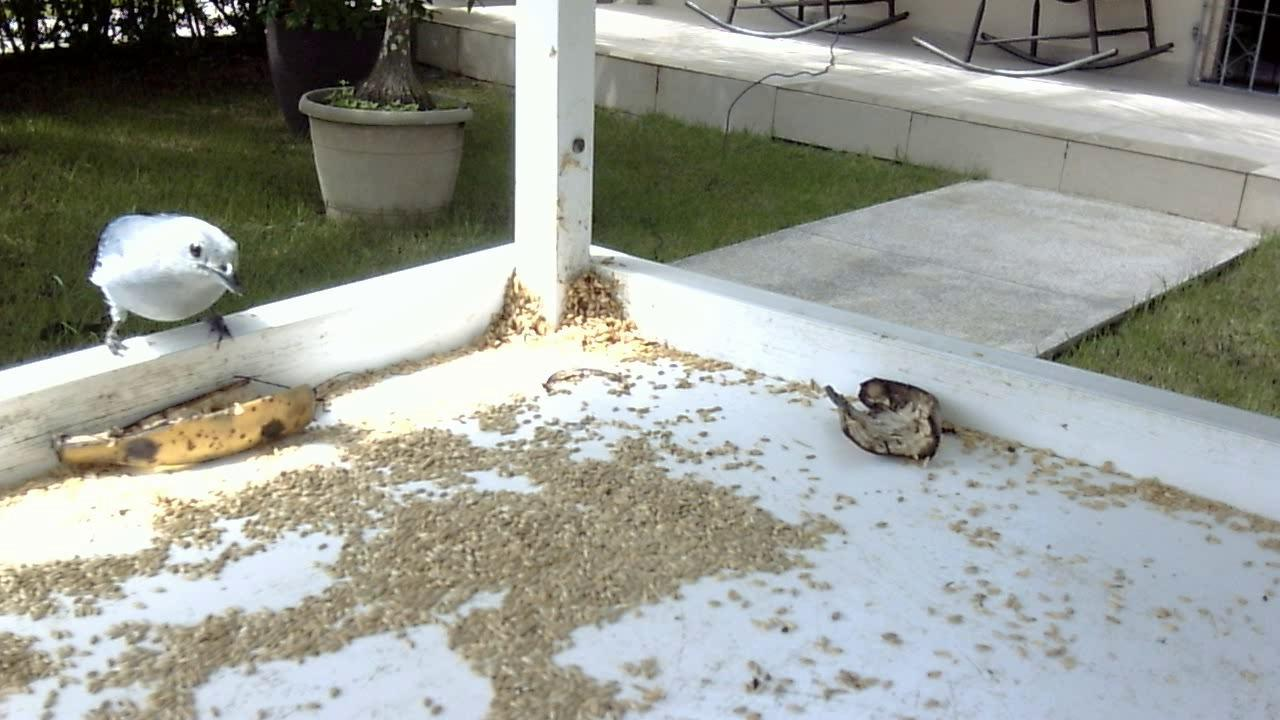sanhaco_da_amazonia: (85, 209, 250, 360)
